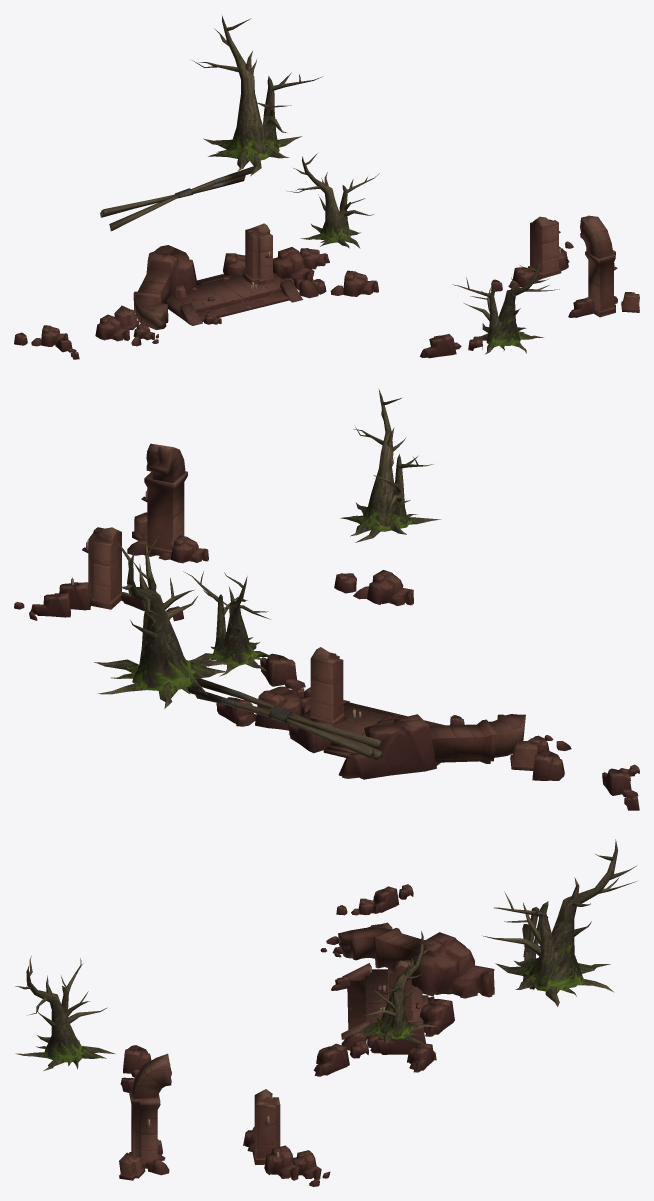
File: yanshi8_wujian_1.fbx
The picture shows the model from 3 angles, top to bottom: view 1: azimuth 30°, elevation 25°; view 2: azimuth 150°, elevation 25°; view 3: azimuth 270°, elevation 25°; orthographic projection. The views are drawn at different scales.
Parts seen in each view (by area): view 1: yanshi8_wujian_1; view 2: yanshi8_wujian_1; view 3: yanshi8_wujian_1.
Part boxes in pixels (box(x1,y1,x2,y2)): yanshi8_wujian_1: box(14, 15, 639, 359); yanshi8_wujian_1: box(14, 389, 639, 810); yanshi8_wujian_1: box(15, 839, 637, 1186).
Bounding box in the file's own units: 5910 × 2110 × 5307.
